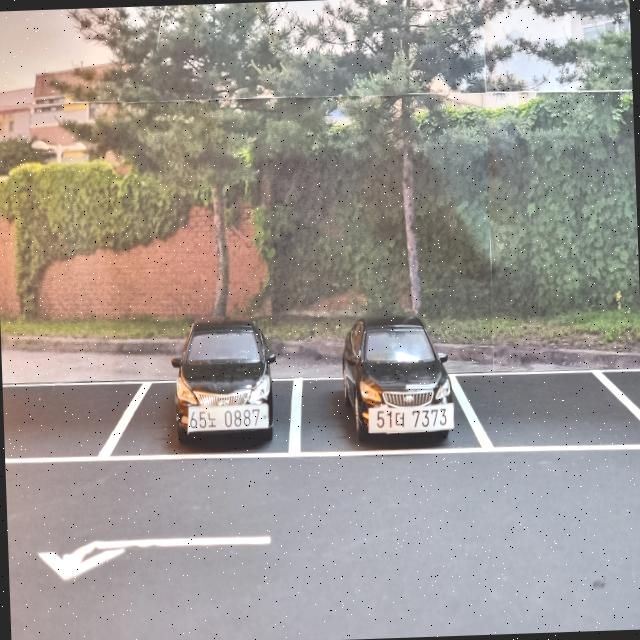empty: (462, 368, 640, 457), (2, 379, 150, 467)
occupied: (318, 312, 474, 458), (160, 314, 286, 456)
